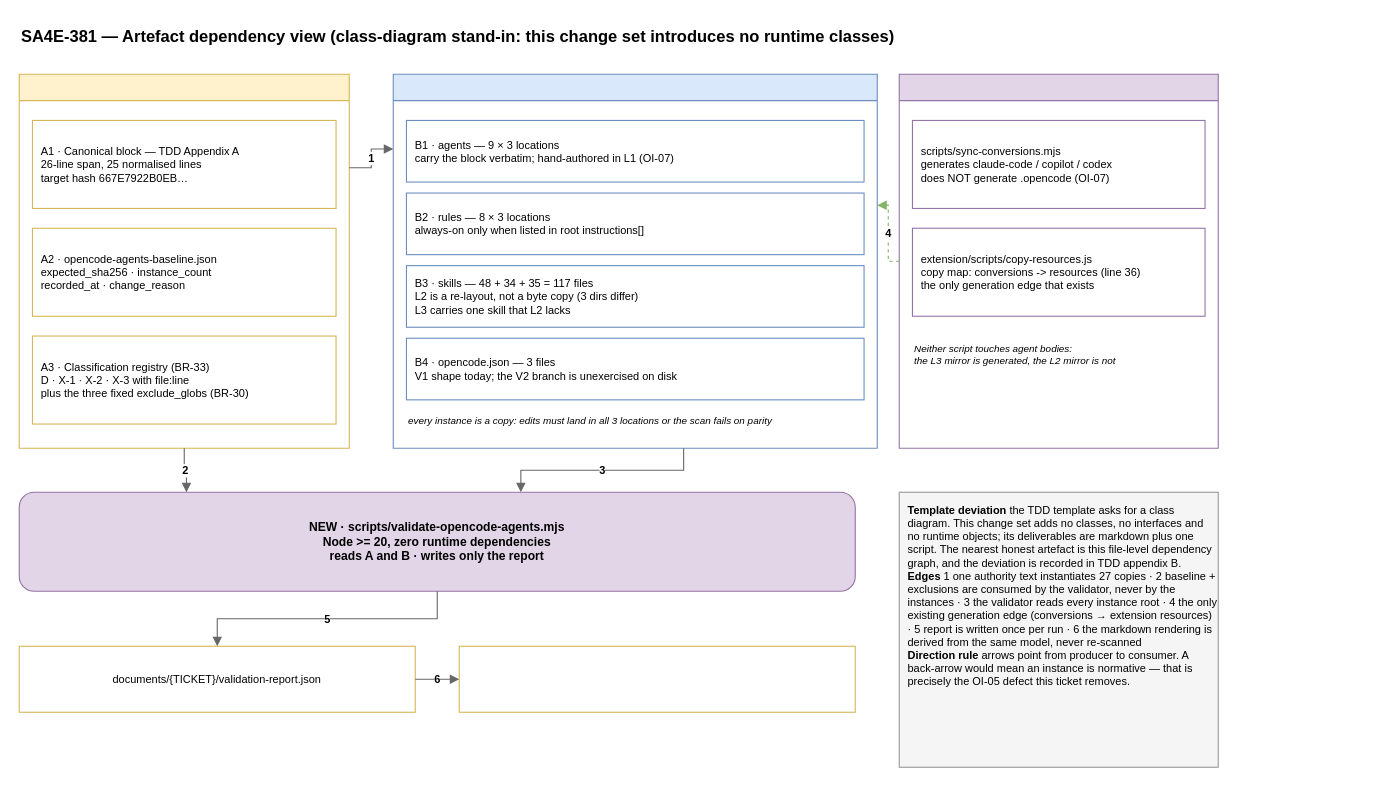
The diagram is 1381 pixels wide and 787 high, and some of its shapes have lost their labels. Here are the shapes that lost their labels. From the top down, the box of each, then its label:
(18, 73, 349, 448): A — AUTHORITY (exactly one normative copy of each)
(392, 73, 877, 448): B — INSTANCES (27 agents · 24 rules · 117 skills · 3 configs)
(898, 73, 1218, 448): C — EXISTING GENERATORS (read-only reference; not modified by this ticket)
(458, 645, 855, 712): markdown table + one RUN-LOG.md line
